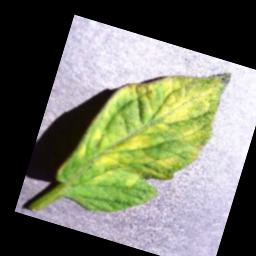Leaf_Mold: (48, 32, 233, 239)
